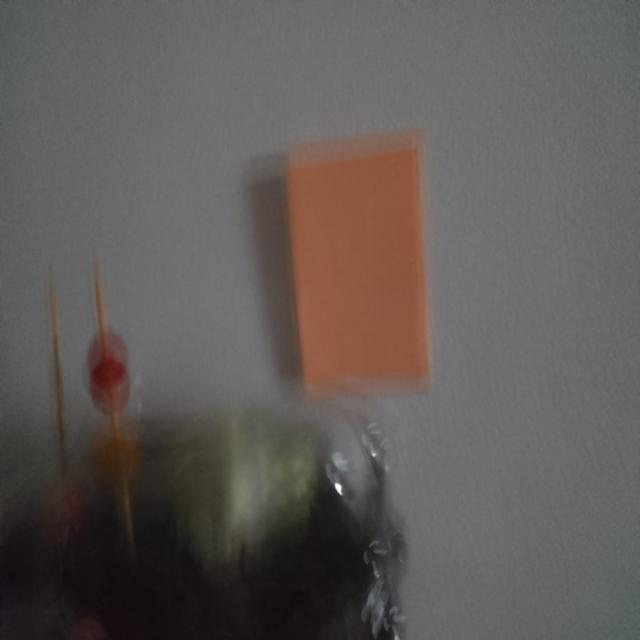card: (285, 131, 430, 396)
fully_grown: (87, 269, 130, 433)
